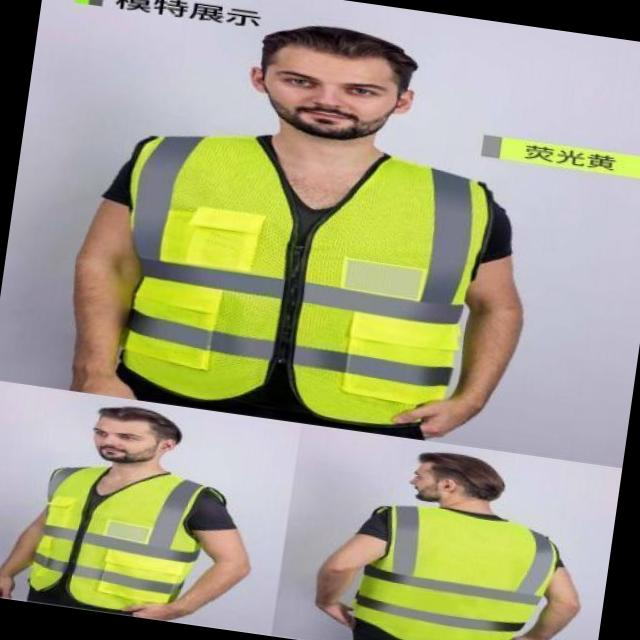no-helmet: (216, 0, 445, 195), (395, 434, 547, 549), (64, 383, 196, 494)
vest: (101, 118, 502, 430), (329, 496, 556, 640), (27, 461, 210, 624)
